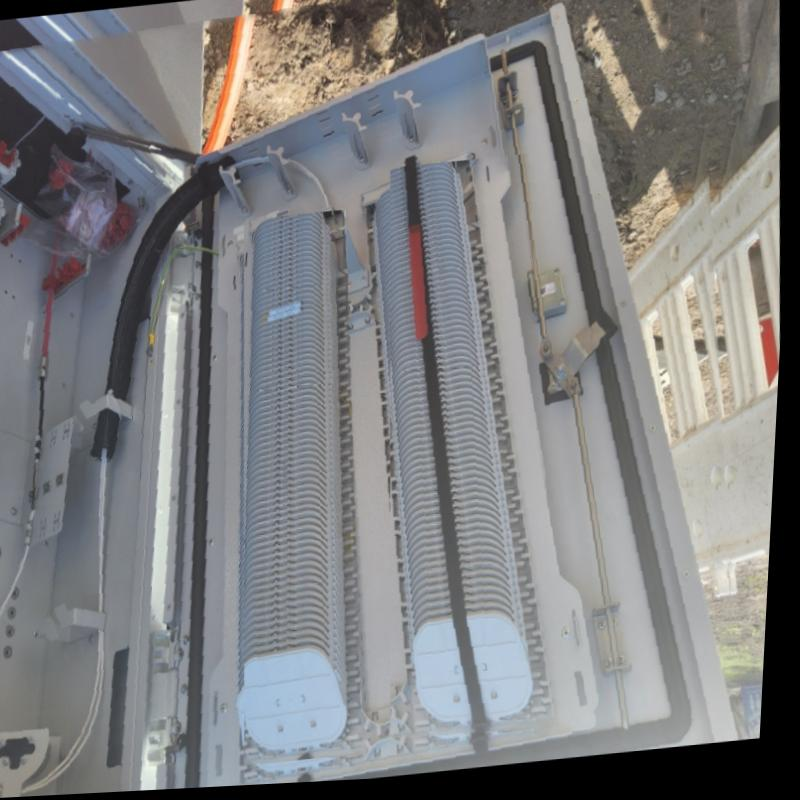NT-Gehause: (0, 0, 747, 799)
Spleiskassetten: (392, 164, 566, 742), (253, 222, 371, 769)
